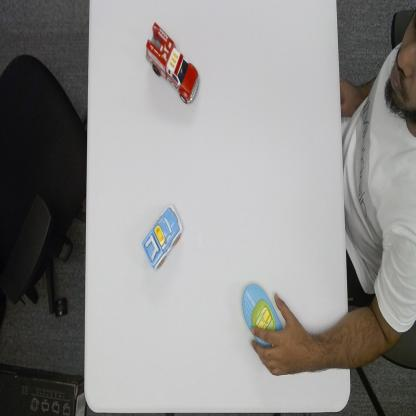Arm: (318, 294, 401, 379)
Boat: (241, 281, 284, 345)
Car: (142, 200, 184, 272)
Firetruck: (145, 21, 200, 104)
Hand: (249, 292, 315, 378)
